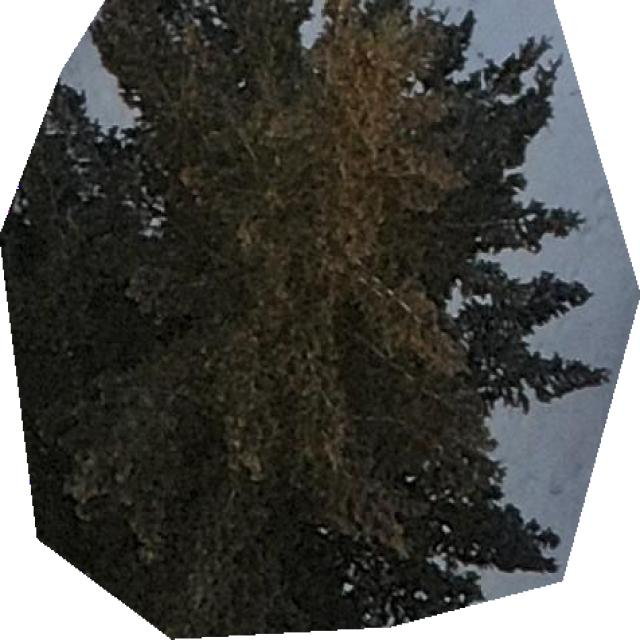spruce: (0, 0, 608, 638)
